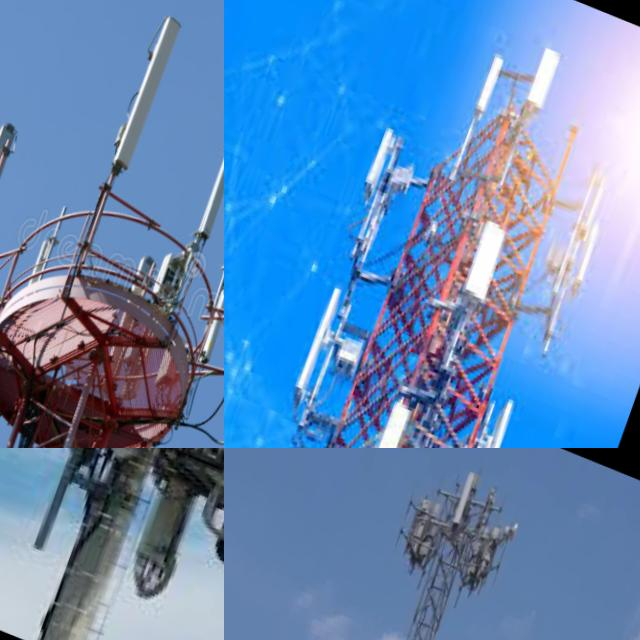GSM Antenna: (104, 0, 191, 179), (285, 279, 351, 415), (451, 208, 516, 309), (187, 121, 224, 239), (346, 386, 416, 448), (463, 36, 513, 121), (0, 119, 26, 279), (518, 32, 567, 112), (356, 119, 402, 202), (566, 206, 612, 287), (462, 389, 522, 448), (445, 462, 482, 531)
Microwave Antenna: (498, 517, 521, 545)
